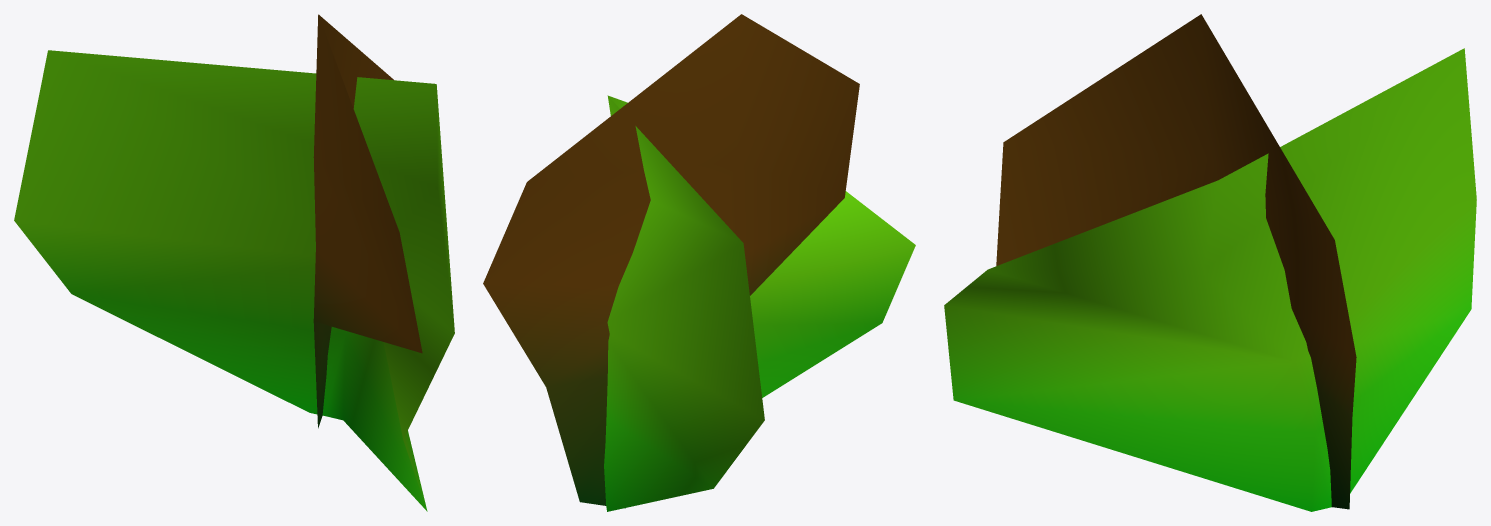
File: Var1Hi8.fbx
3 renders of one model, left to right at view 1: azimuth 30°, elevation 25°; view 2: azimuth 150°, elevation 25°; view 3: azimuth 270°, elevation 25°, orthographic.
Visible parts, largest first — view 1: bend1; view 2: bend1; view 3: bend1.
Boxes of the visible parts, x1,y1,x2,y2 form: bend1: (14,14,454,511); bend1: (483,14,915,511); bend1: (944,14,1476,511).
Bounding box in the file's own units: 1.04 × 1.36 × 1.41.
